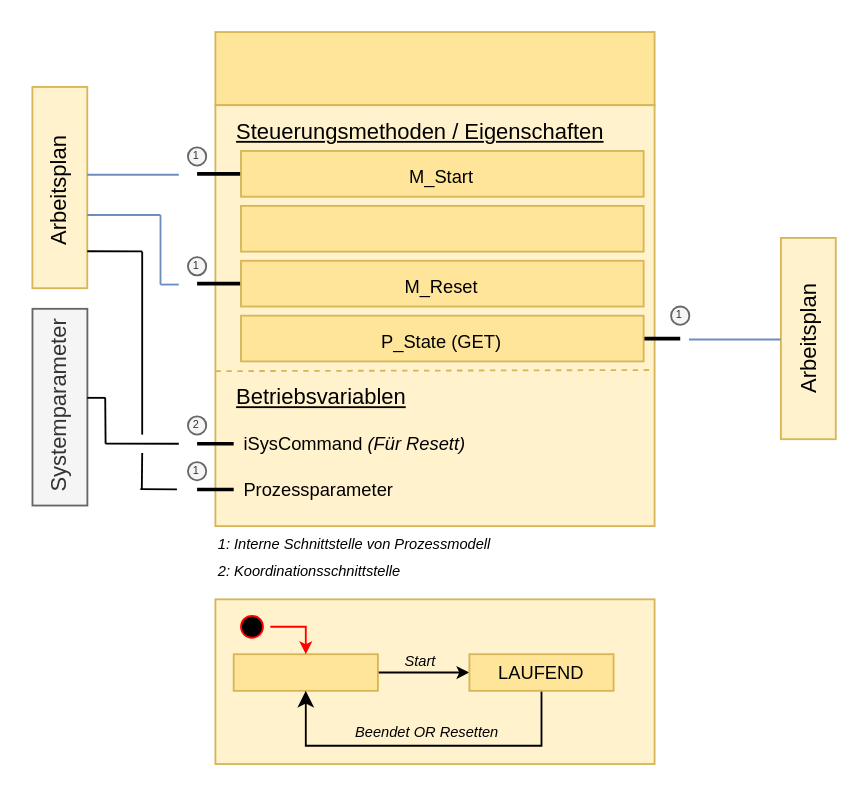
This 867x796 diagram has some shape labels left out. Here are the shapes that lost their labels. From the top down, the centre of each, then its label:
At pixel 434 67: "Sequenz".
At pixel 441 228: "M_Stop (intern)".
At pixel 305 671: "BEREIT".
